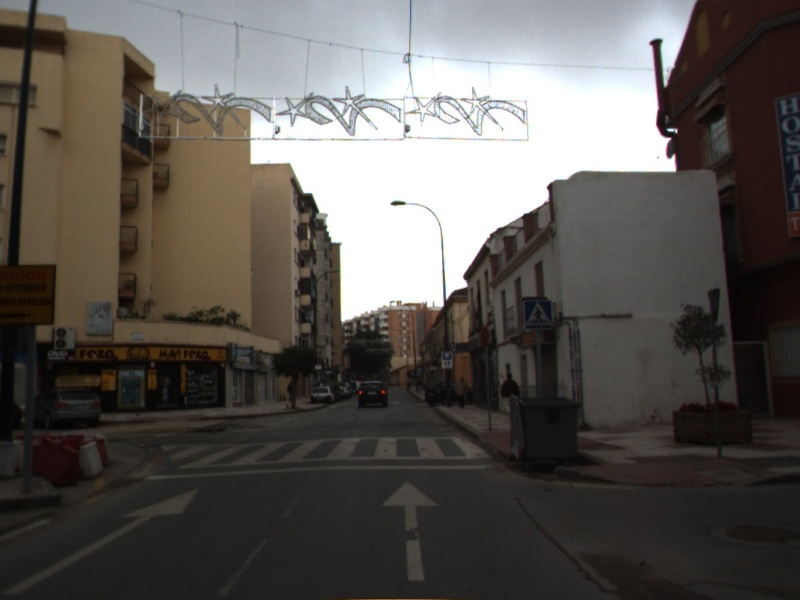STRAIGHT: (1, 486, 201, 599), (379, 478, 441, 584)
